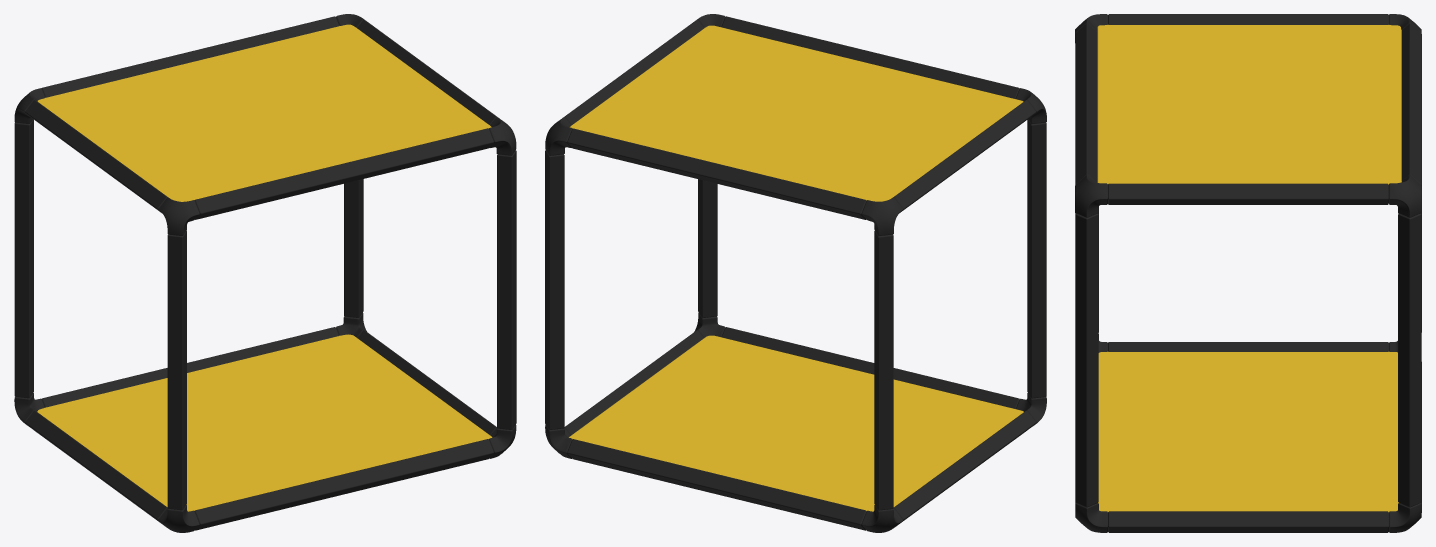
The picture shows the model from 3 angles, left to right: view 1: azimuth 30°, elevation 25°; view 2: azimuth 150°, elevation 25°; view 3: azimuth 270°, elevation 25°; orthographic projection. The views are drawn at different scales.
Parts seen in each view (by area): view 1: 420x329x374; view 2: 420x329x374; view 3: 420x329x374.
Boxes of the visible parts, x1=… form: 420x329x374: x1=14, y1=14, x2=516, y2=532; 420x329x374: x1=545, y1=14, x2=1046, y2=532; 420x329x374: x1=1075, y1=14, x2=1421, y2=532.
Size of the model in its own units: 0.4977 by 0.4518 by 0.4063.
